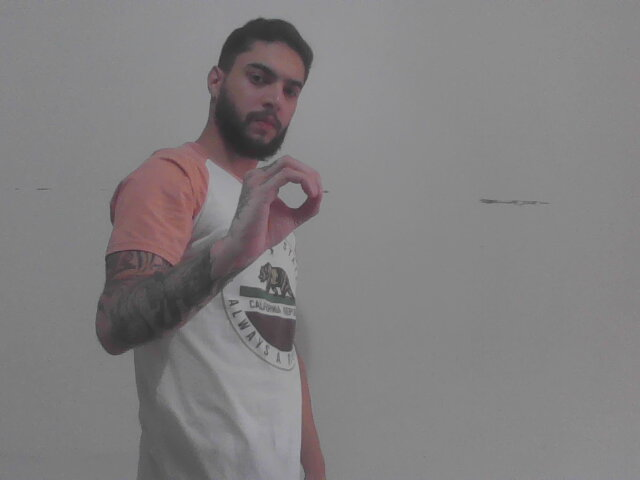o: (228, 150, 326, 268)
